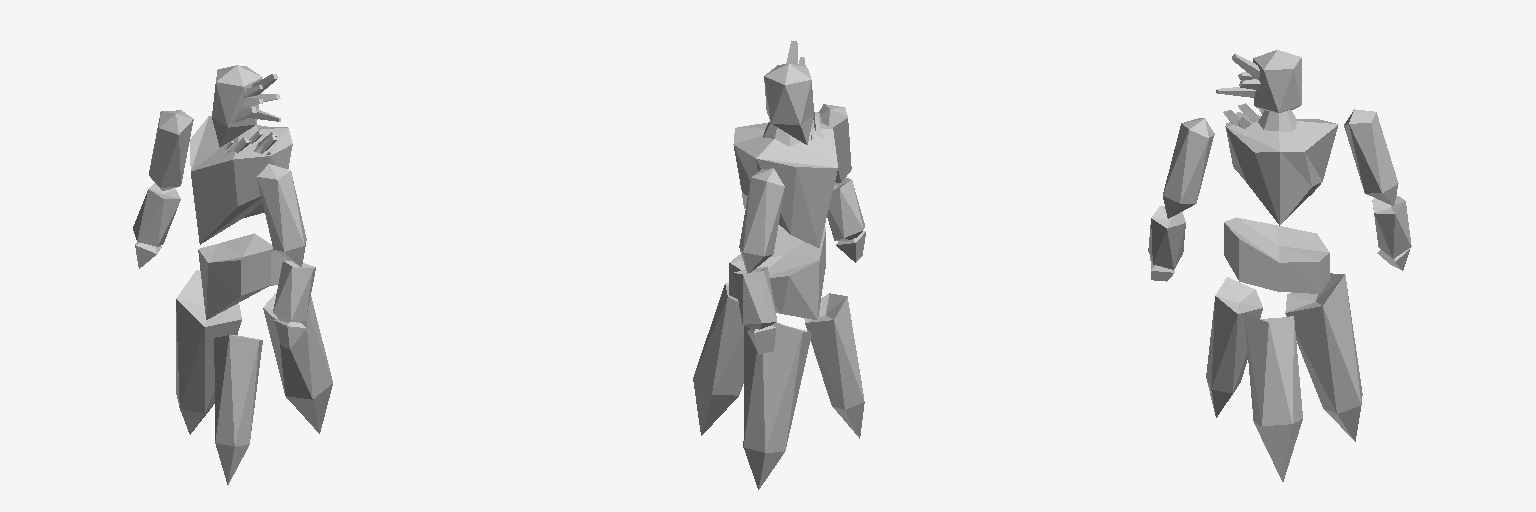
File: ghostIdle1.obj
3 views of the same model, side by side, from view 1: azimuth 30°, elevation 25°; view 2: azimuth 150°, elevation 25°; view 3: azimuth 270°, elevation 25° (orthographic).
Parts seen in each view (by area): view 1: Cube.001_Cube.001, Icosphere.005, Icosphere.003, Cube_Cube.002, Icosphere.004, Icosphere.005_Icosphere.001, Icosphere.007_Icosphere.001, Icosphere.003_Icosphere.001, Icosphere.006_Icosphere.001, Icosphere.008_Icosphere.001, Cube.002_Cube.001; view 2: Cube.001_Cube.001, Icosphere.005, Icosphere.003, Icosphere.004, Cube_Cube.002, Icosphere.007_Icosphere.001, Icosphere.003_Icosphere.001, Icosphere.008_Icosphere.001, Icosphere.006_Icosphere.001, Icosphere.005_Icosphere.001, Cube.003_Cube.001; view 3: Cube.001_Cube.001, Icosphere.005, Icosphere.004, Cube_Cube.002, Icosphere.003, Icosphere.005_Icosphere.001, Icosphere.007_Icosphere.001, Icosphere.003_Icosphere.001, Icosphere.006_Icosphere.001, Icosphere.008_Icosphere.001, Cone_Cone.002.
Part boxes in pixels (left/top/right/bottom): Cube.001_Cube.001: left=190, top=116, right=292, bottom=244; Icosphere.005: left=176, top=270, right=241, bottom=434; Icosphere.003: left=214, top=335, right=262, bottom=484; Cube_Cube.002: left=198, top=233, right=289, bottom=319; Icosphere.004: left=263, top=292, right=332, bottom=433; Icosphere.005_Icosphere.001: left=257, top=164, right=306, bottom=267; Icosphere.007_Icosphere.001: left=149, top=110, right=193, bottom=190; Icosphere.003_Icosphere.001: left=212, top=65, right=262, bottom=147; Icosphere.006_Icosphere.001: left=273, top=261, right=315, bottom=322; Icosphere.008_Icosphere.001: left=133, top=183, right=180, bottom=246; Cube.002_Cube.001: left=274, top=319, right=306, bottom=348; Cube.001_Cube.001: left=733, top=120, right=837, bottom=247; Icosphere.005: left=743, top=322, right=811, bottom=489; Icosphere.003: left=804, top=293, right=864, bottom=438; Icosphere.004: left=693, top=283, right=743, bottom=435; Cube_Cube.002: left=729, top=225, right=825, bottom=319; Icosphere.007_Icosphere.001: left=739, top=168, right=784, bottom=273; Icosphere.003_Icosphere.001: left=764, top=64, right=813, bottom=144; Icosphere.008_Icosphere.001: left=733, top=267, right=776, bottom=329; Icosphere.006_Icosphere.001: left=827, top=178, right=864, bottom=240; Icosphere.005_Icosphere.001: left=818, top=104, right=851, bottom=185; Cube.003_Cube.001: left=747, top=325, right=775, bottom=354; Cube.001_Cube.001: left=1225, top=112, right=1338, bottom=225; Icosphere.005: left=1285, top=273, right=1362, bottom=441; Icosphere.004: left=1244, top=314, right=1302, bottom=481; Cube_Cube.002: left=1224, top=217, right=1329, bottom=293; Icosphere.003: left=1206, top=277, right=1262, bottom=417; Icosphere.005_Icosphere.001: left=1163, top=118, right=1214, bottom=218; Icosphere.007_Icosphere.001: left=1344, top=109, right=1398, bottom=205; Icosphere.003_Icosphere.001: left=1253, top=50, right=1301, bottom=113; Icosphere.006_Icosphere.001: left=1148, top=206, right=1185, bottom=269; Icosphere.008_Icosphere.001: left=1372, top=195, right=1411, bottom=258; Cone_Cone.002: left=1258, top=110, right=1296, bottom=131.
Size of the model in its own units: 17.06 by 47.42 by 28.3.